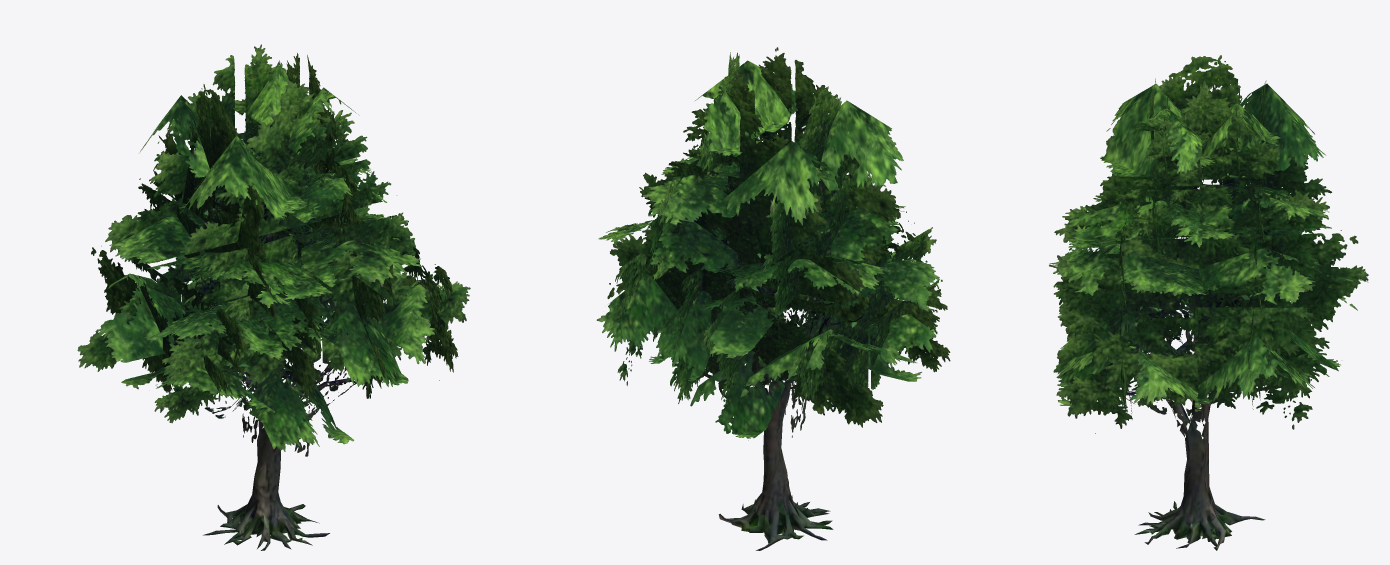
Rendered from verdant-sentinel-far.glb.
3 renders of one model, left to right at view 1: azimuth 30°, elevation 25°; view 2: azimuth 150°, elevation 25°; view 3: azimuth 270°, elevation 25°, orthographic.
Parts seen in each view (by area): view 1: Foliage, Wood; view 2: Foliage, Wood; view 3: Foliage, Wood.
Boxes of the visible parts, <box> form: Foliage: <box>77,44,470,456</box>; Wood: <box>192,139,354,550</box>; Foliage: <box>596,47,950,440</box>; Wood: <box>717,131,863,550</box>; Foliage: <box>1049,55,1368,433</box>; Wood: <box>1125,177,1270,550</box>.
Size of the model in its own units: 9.68 by 12.12 by 7.8.
2 materials, 2 textured.
